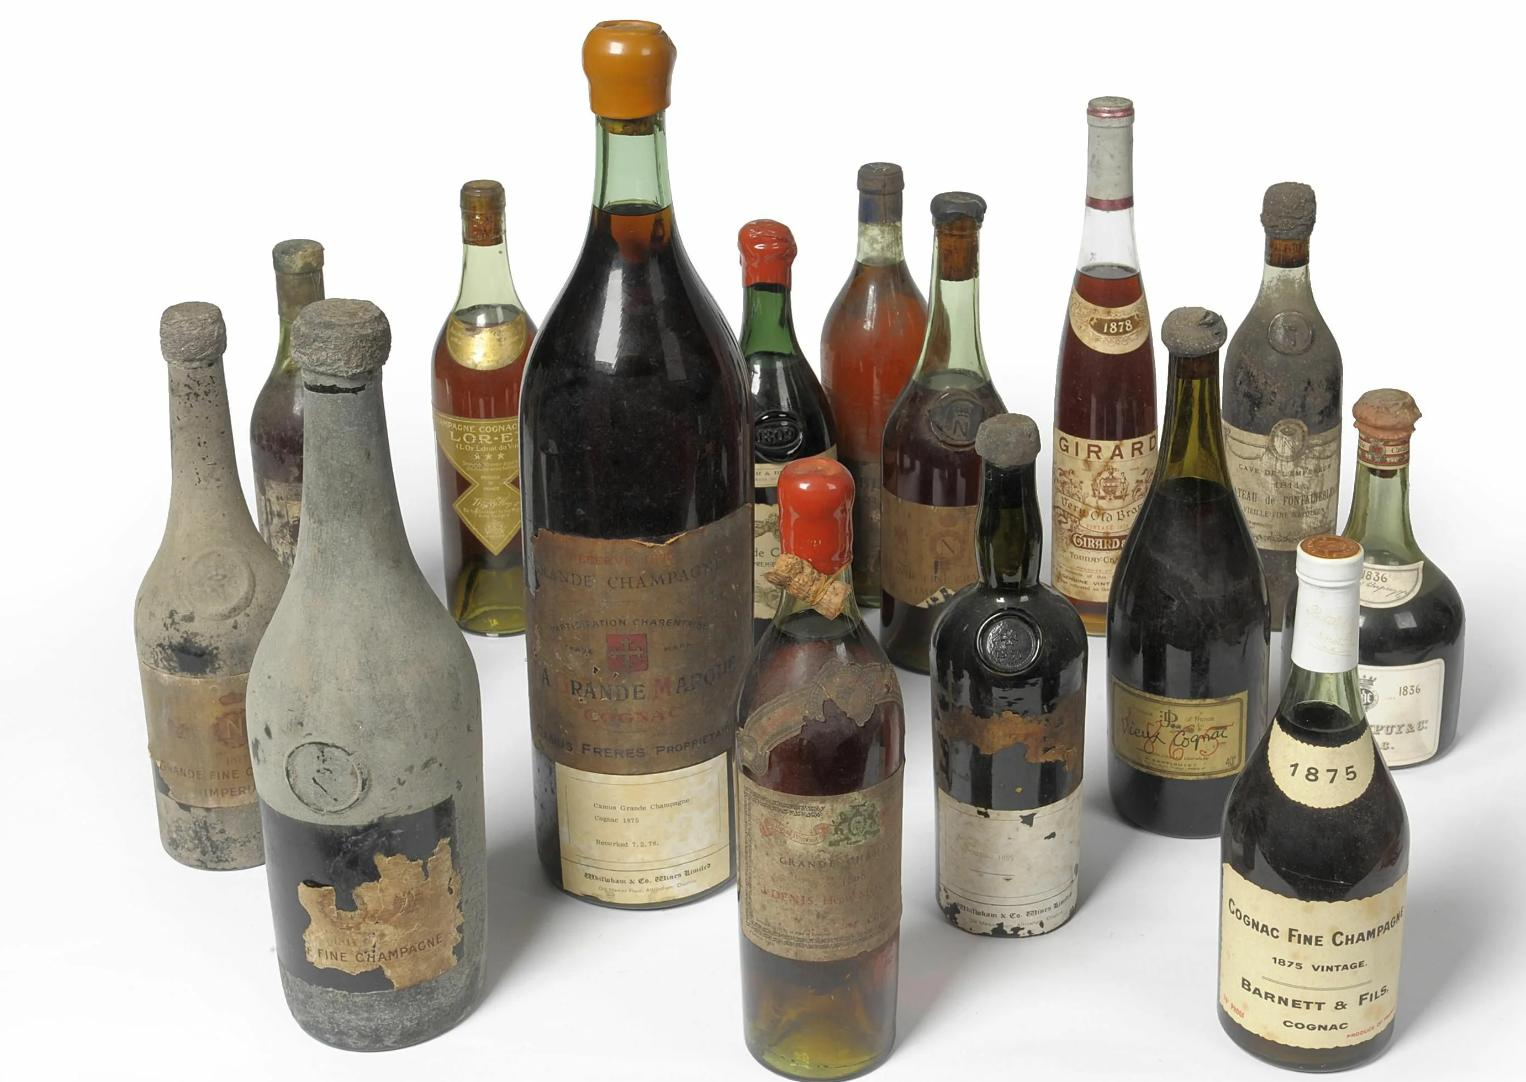wine bottle: (519, 16, 762, 912), (246, 295, 484, 1055), (1211, 529, 1411, 1074), (735, 464, 901, 1082), (136, 299, 295, 872), (1103, 308, 1270, 844), (928, 410, 1088, 940), (877, 191, 1017, 684), (1045, 96, 1164, 635), (1218, 183, 1348, 635), (432, 177, 546, 639), (1343, 388, 1470, 772), (743, 215, 842, 638), (248, 234, 326, 566)
wine label: (528, 507, 755, 773), (260, 789, 467, 994), (1222, 858, 1404, 1047), (738, 773, 904, 963), (939, 786, 1088, 939), (1053, 426, 1161, 597), (1216, 416, 1342, 557), (1108, 676, 1246, 781), (152, 669, 255, 809), (436, 409, 526, 554), (883, 486, 984, 612), (1353, 656, 1450, 767), (762, 500, 781, 616)
